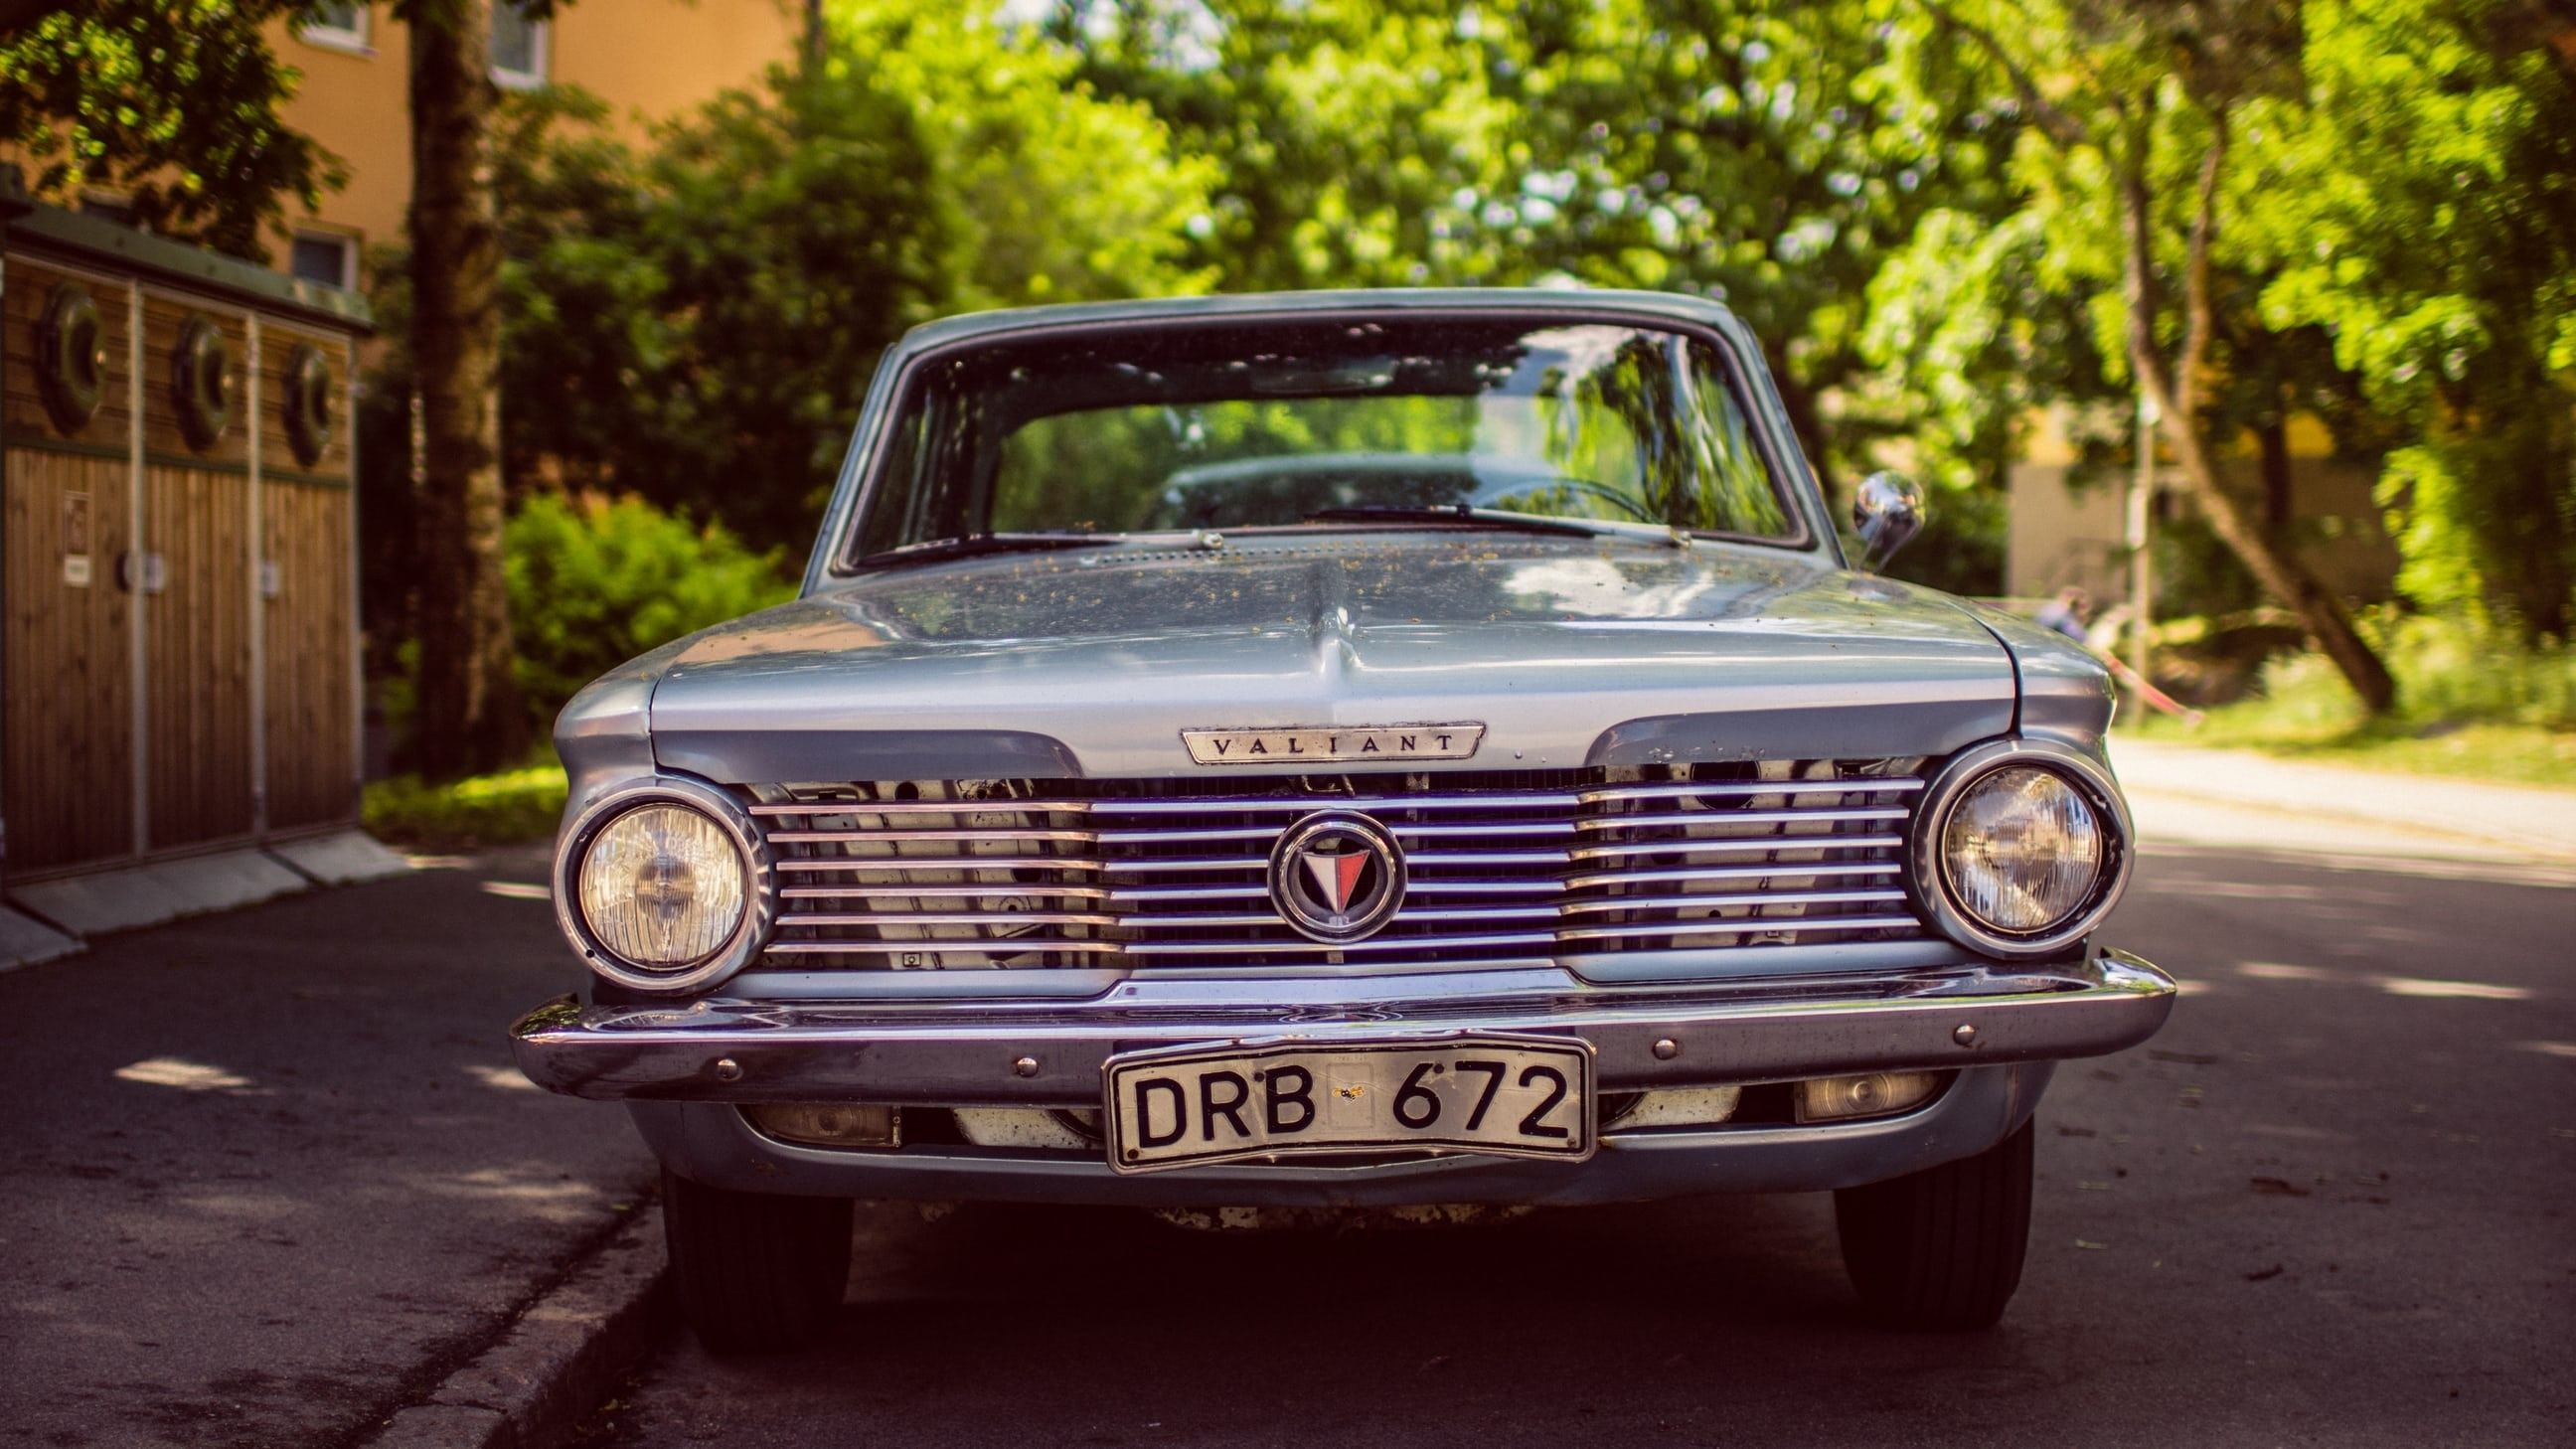plaka: (1107, 1036, 1599, 1176)
